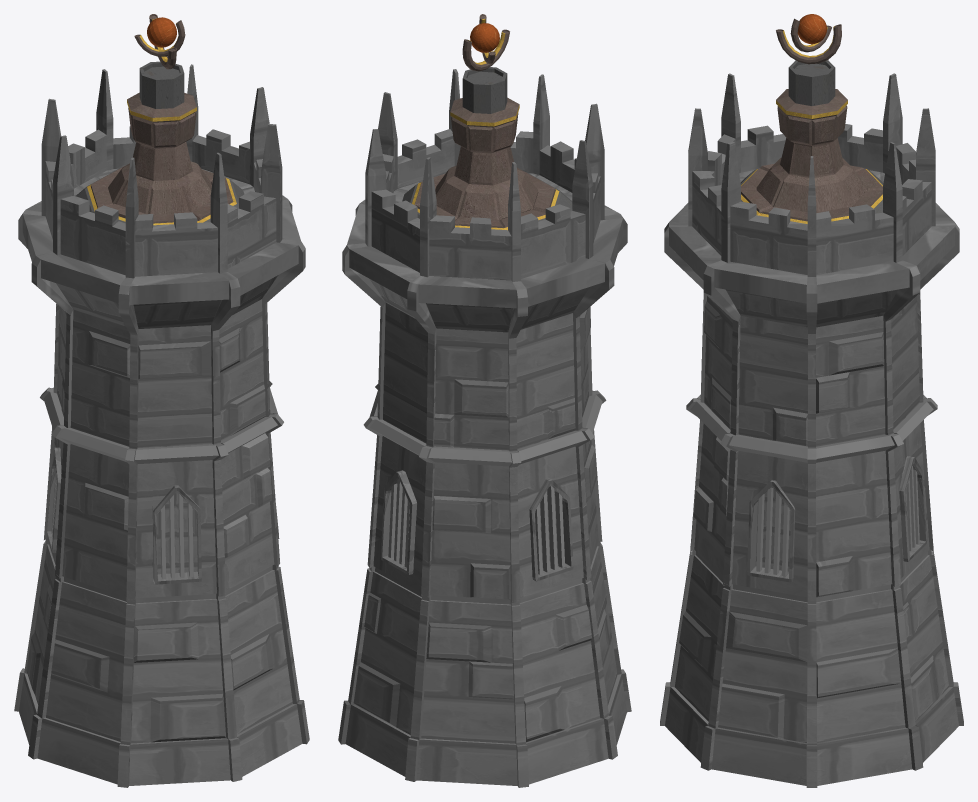
The model's file is att3-wizard.fbx.
The picture shows the model from 3 angles, left to right: view 1: azimuth 30°, elevation 25°; view 2: azimuth 150°, elevation 25°; view 3: azimuth 270°, elevation 25°; orthographic projection.
Visible parts, largest first — view 1: polySurface55; view 2: polySurface55; view 3: polySurface55.
Boxes of the visible parts, left/top/right/bottom form: polySurface55: left=14, top=14, right=309, bottom=787; polySurface55: left=338, top=14, right=631, bottom=787; polySurface55: left=660, top=14, right=963, bottom=787.
Size of the model in its own units: 13.87 by 35.75 by 13.87.
6 materials, 5 textured.
